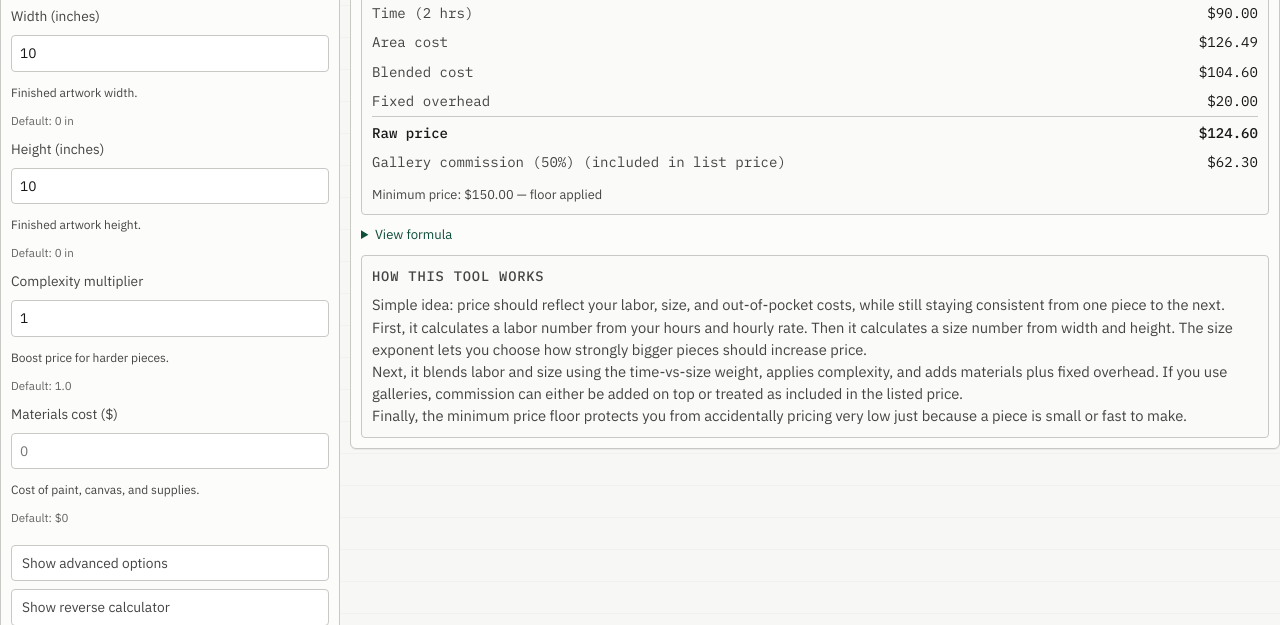
Test: ArtPricingPage › shows the advanced section only after toggle
The image size is (1280, 625).
(page scrolled)
What coordinates should you click on to do the following:
click the button "Show advanced options"
I would click on:
 (170, 563)
Its box is [11, 544, 329, 581].
(page scrolled)
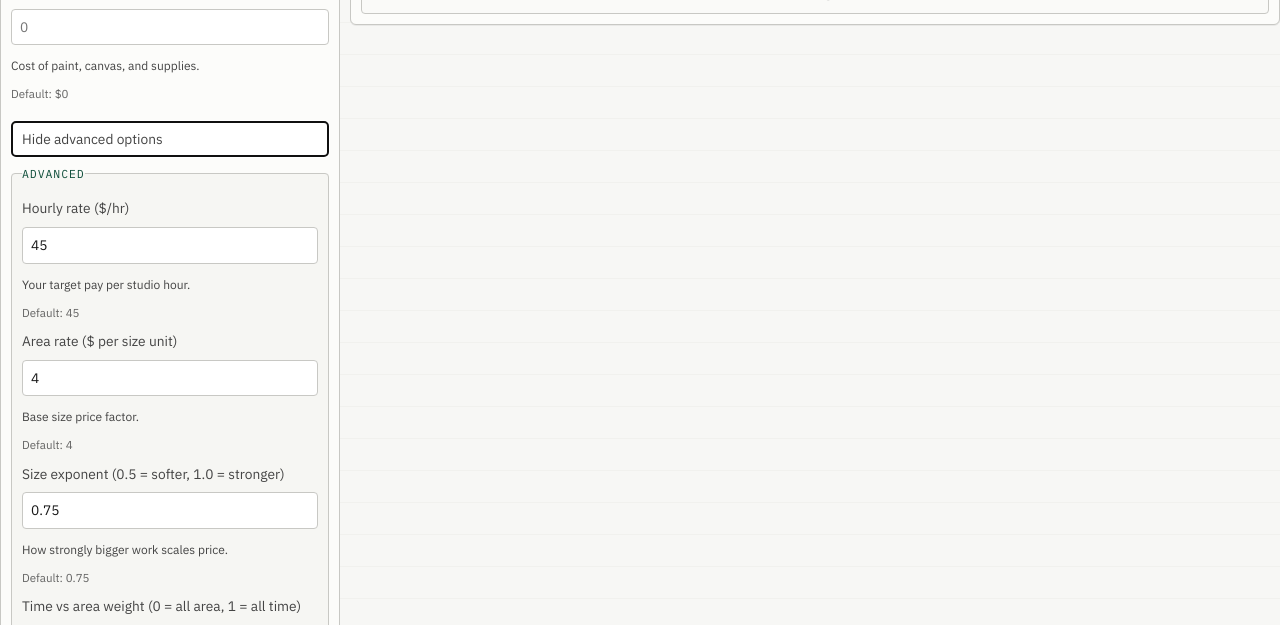
Expected: the number field labelled "Hourly rate" is shown, [22, 227, 318, 264]
